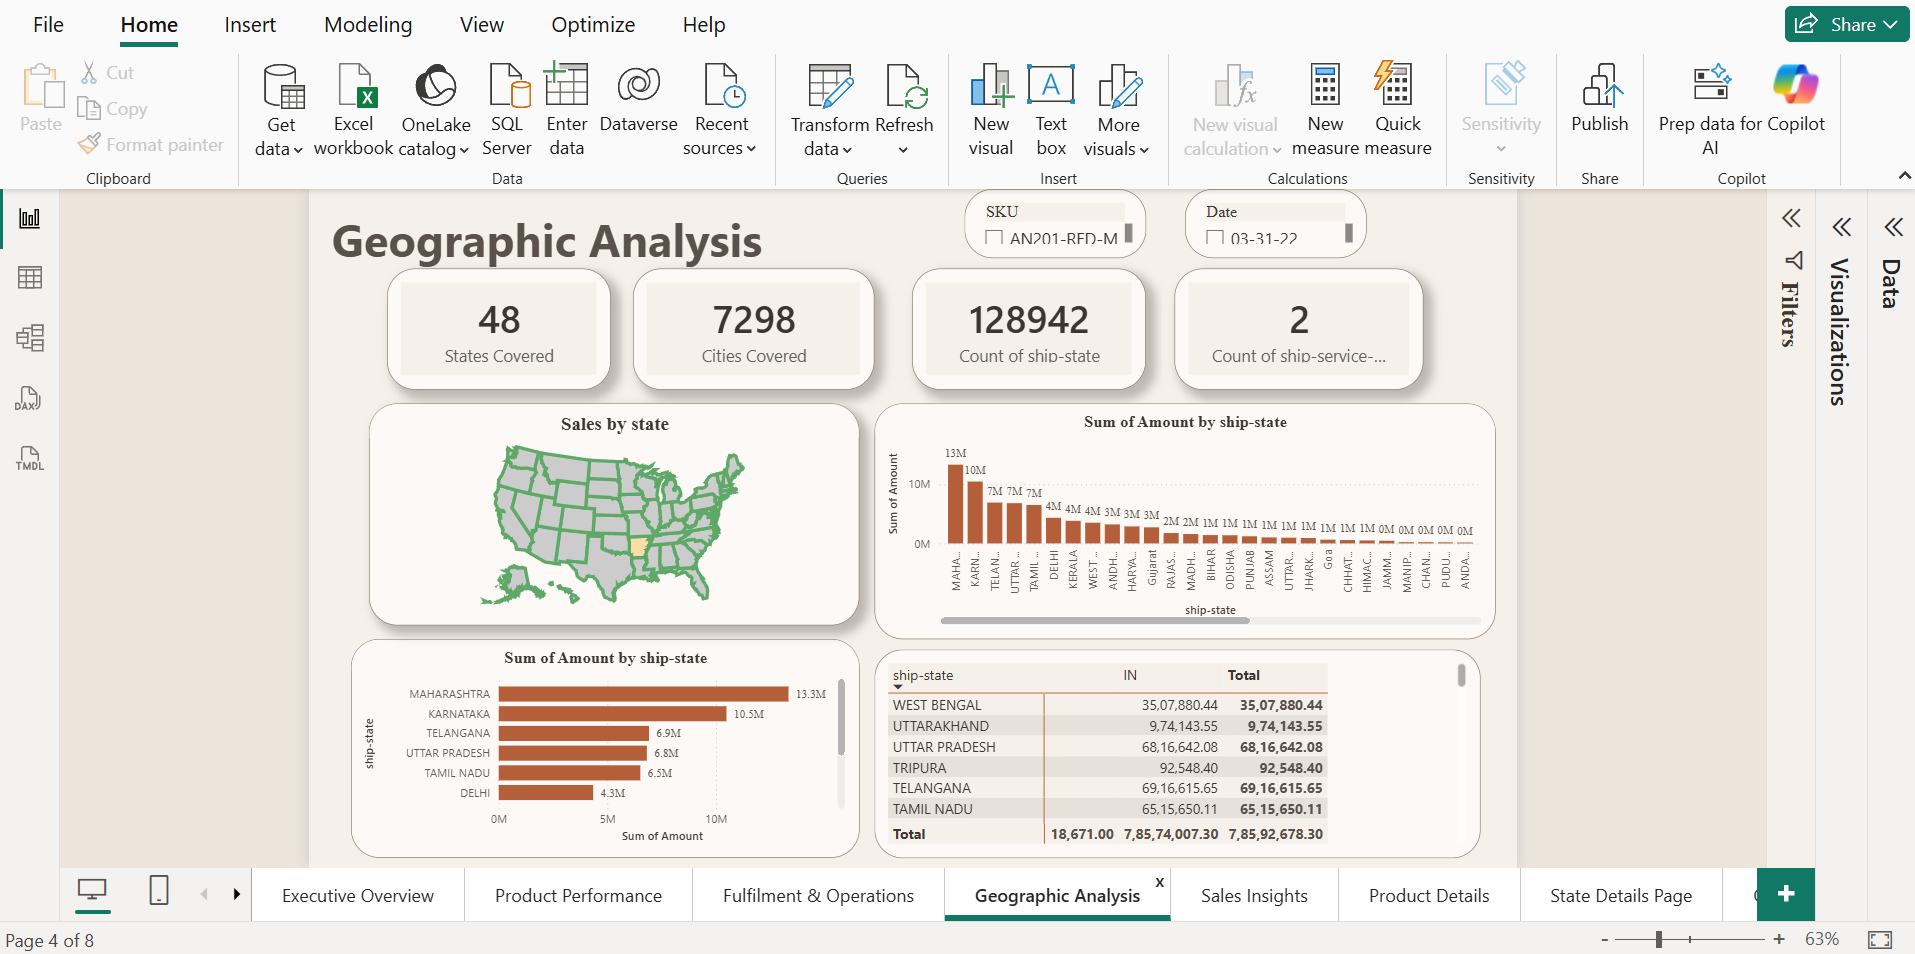

Layout of this report page (visuals, bound fields, positions):
{"tool":"powerbi","page":{"name":"Geographic Analysis","canvas":[1280,720],"ordinal":3},"visuals":[{"type":"cardVisual","fields":{"Data":["amazon_sales_cleaned.States Covered"]},"box":[82.7,84.3,237,128.8],"z":0},{"type":"cardVisual","fields":{"Data":["amazon_sales_cleaned.Cities Covered"]},"box":[343.6,84.3,256.1,128.8],"z":1000},{"type":"cardVisual","fields":{"Data":["CountNonNull(amazon_sales_cleaned.ship-state)"]},"box":[639.4,84.3,248.1,128.8],"z":2000},{"type":"cardVisual","fields":{"Data":["Count(amazon_sales_cleaned.ship-service-level)"]},"box":[917.8,84.3,264,128.8],"z":3000},{"type":"textbox","box":[19.1,14.3,521.7,116.1],"z":4000},{"type":"clusteredBarChart","fields":{"Category":["amazon_sales_cleaned.ship-state"],"Y":["Sum(amazon_sales_cleaned.Amount)"]},"box":[44.5,477.2,539.2,232.2],"z":5000},{"type":"columnChart","fields":{"Y":["Sum(amazon_sales_cleaned.Amount)"],"Category":["amazon_sales_cleaned.ship-state"]},"box":[599.7,227.5,658.5,249.7],"z":6000},{"type":"pivotTable","fields":{"Rows":["amazon_sales_cleaned.ship-state"],"Values":["Sum(amazon_sales_cleaned.Amount)"],"Columns":["amazon_sales_cleaned.ship-country"]},"box":[599.7,488.3,642.6,221.1],"z":7000},{"type":"shapeMap","title":"Sales by state","fields":{"Category":["amazon_sales_cleaned.ship-state"],"Value":["Sum(amazon_sales_cleaned.Amount)"]},"box":[63.6,227.5,520.1,235.4],"z":8000},{"type":"slicer","fields":{"Values":["amazon_sales_cleaned.SKU"]},"box":[695.1,0,192.5,73.2],"z":9000},{"type":"slicer","fields":{"Values":["amazon_sales_cleaned.Date"]},"box":[928.9,0,192.5,73.2],"z":10000}]}

Visuals, with their boxes on the page's 1280x720 design canvas (x1, y1, x2, y2). These are canvas units, not pixel positions in the 1915x954 screenshot, which may show the page scaled, cropped or inside an application window:
cardVisual - amazon_sales_cleaned.States Covered: 83/84/320/213
cardVisual - amazon_sales_cleaned.Cities Covered: 344/84/600/213
cardVisual - CountNonNull(amazon_sales_cleaned.ship-state): 639/84/888/213
cardVisual - Count(amazon_sales_cleaned.ship-service-level): 918/84/1182/213
textbox: 19/14/541/130
clusteredBarChart - amazon_sales_cleaned.ship-state x Sum(amazon_sales_cleaned.Amount): 44/477/584/709
columnChart - Sum(amazon_sales_cleaned.Amount) x amazon_sales_cleaned.ship-state: 600/228/1258/477
pivotTable - amazon_sales_cleaned.ship-state x Sum(amazon_sales_cleaned.Amount): 600/488/1242/709
"Sales by state" shapeMap: 64/228/584/463
slicer - amazon_sales_cleaned.SKU: 695/0/888/73
slicer - amazon_sales_cleaned.Date: 929/0/1121/73
